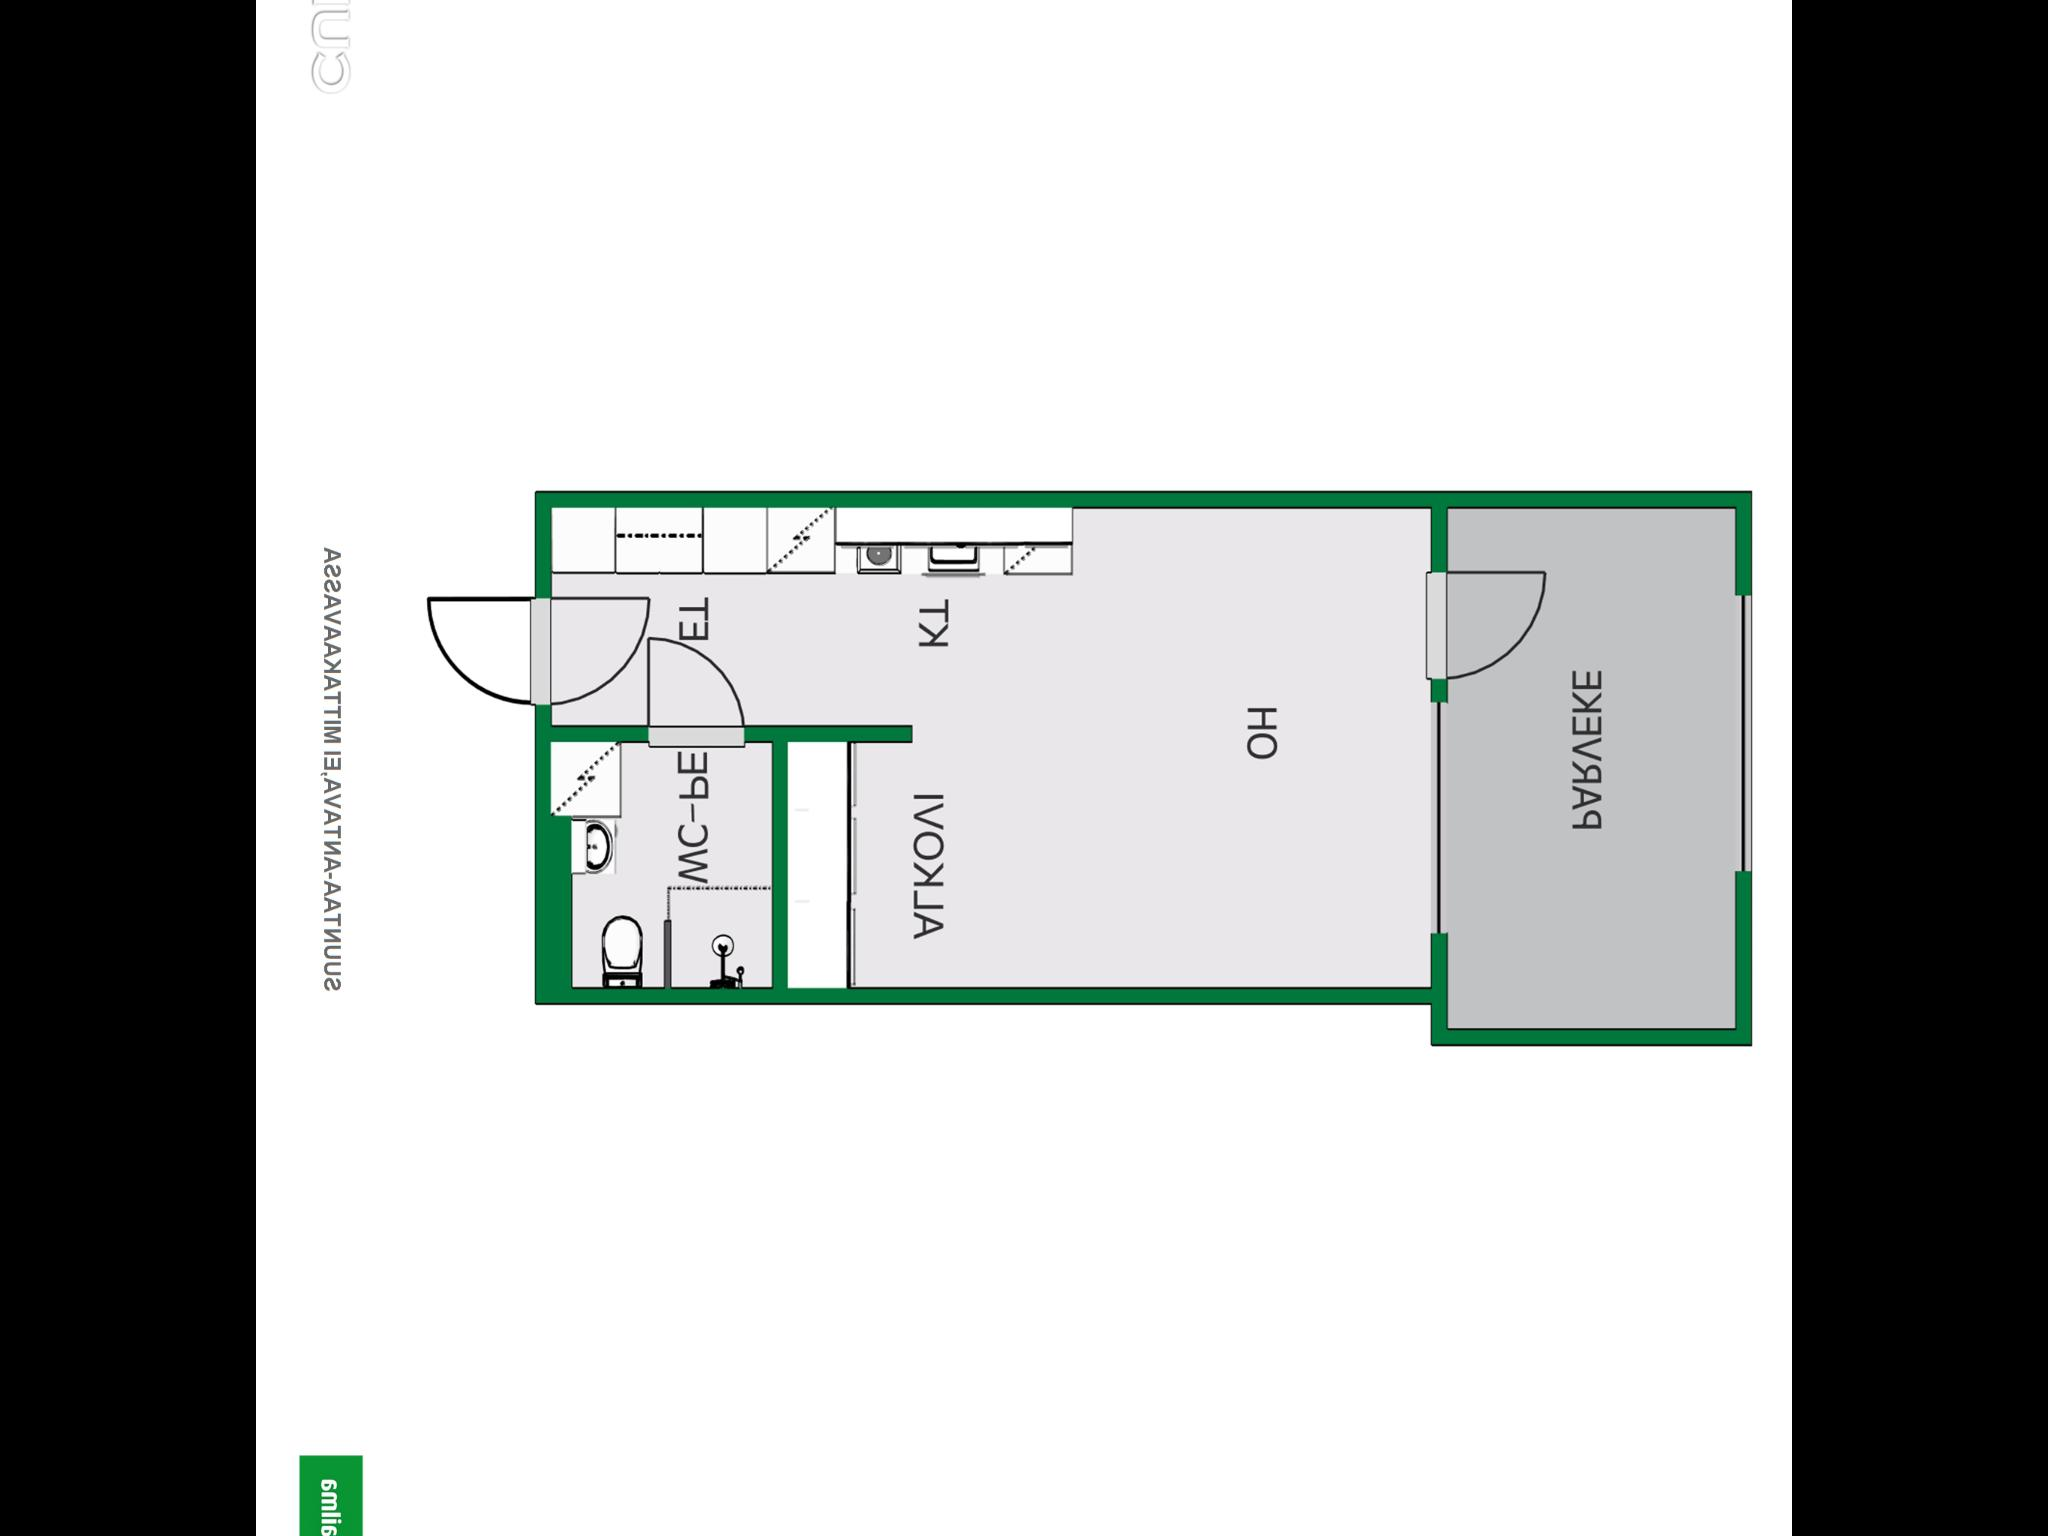door: (418, 587, 550, 710), (1422, 565, 1553, 684), (531, 591, 656, 710), (642, 634, 753, 750)
window: (1421, 684, 1455, 952), (1730, 581, 1758, 889)
